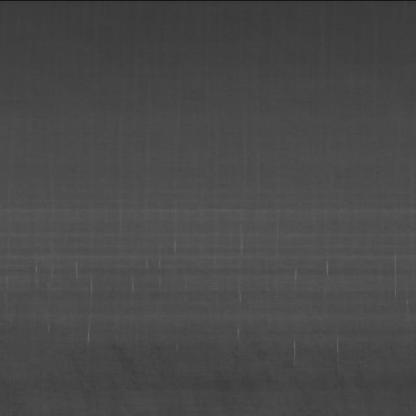waist_folding: (13, 178, 393, 367)
